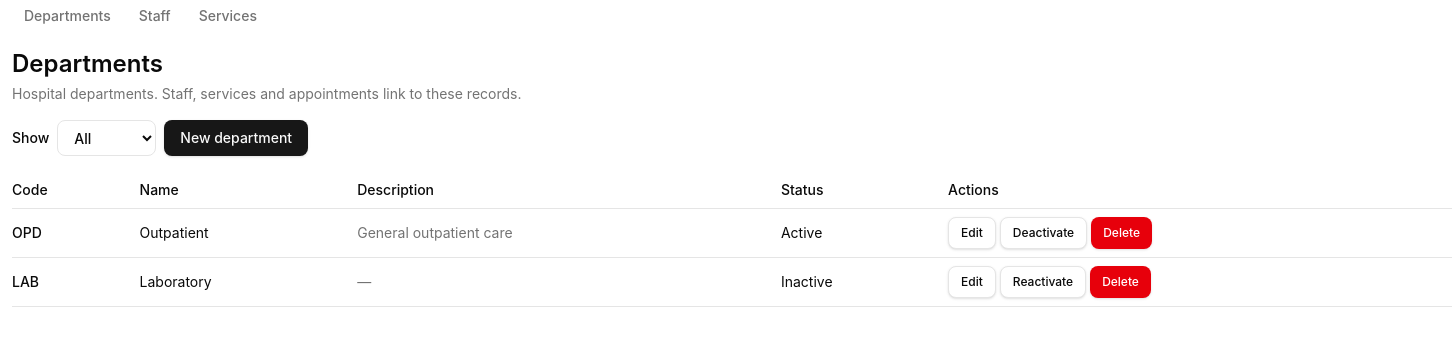
Scenario: DepartmentsPage › shows the deactivation warning when staff remain in the department
Click the button "Deactivate". click: [1043, 233]
box: [1000,217,1087,249]
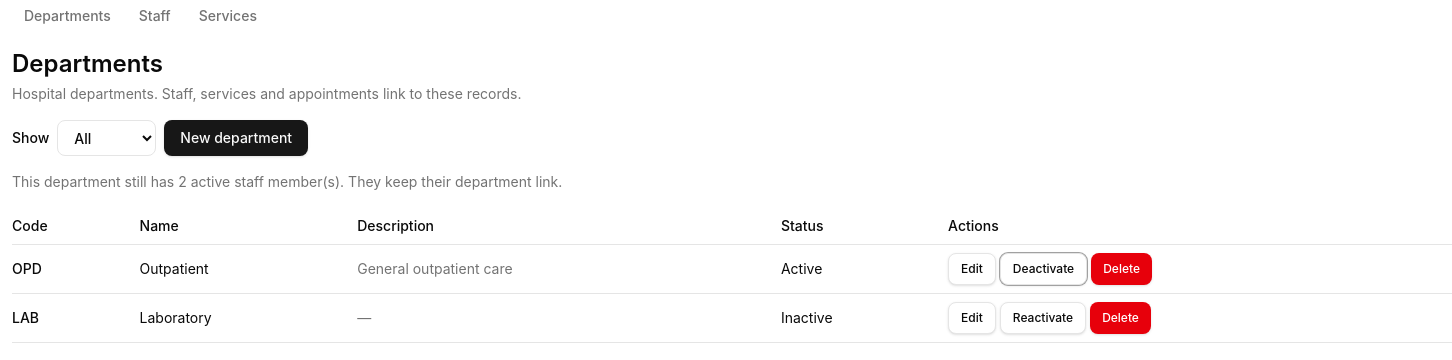
Check: the text "still has 2 active staff member" is shown, box [12,173,562,190]
